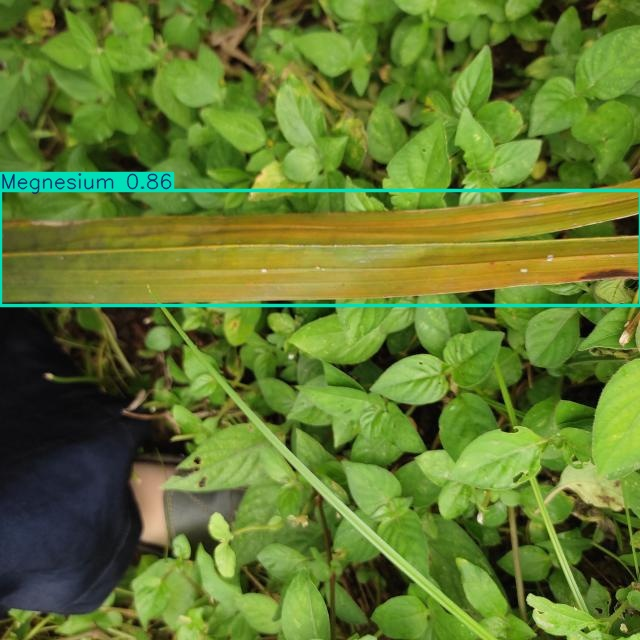Megnesium: (1, 191, 640, 306)
